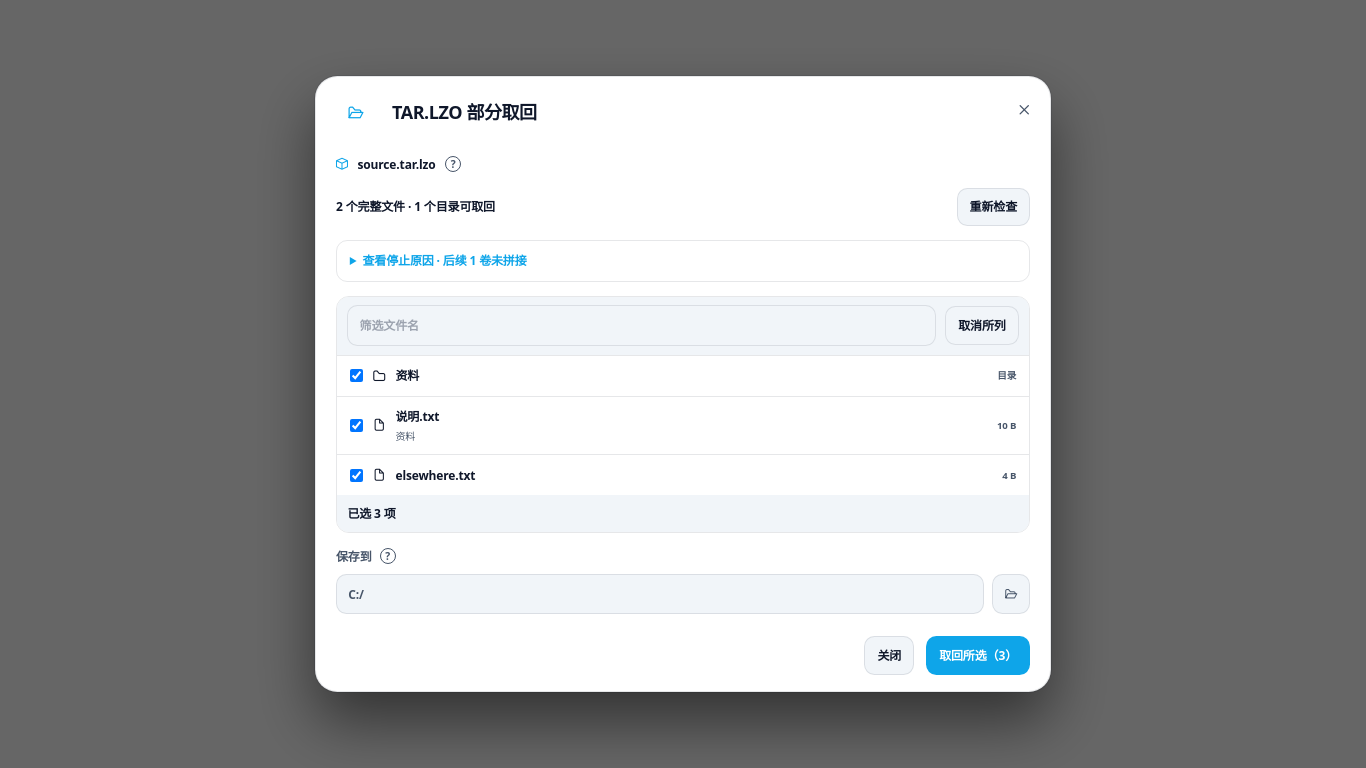
Test: tarlzo175 selecting a folder includes only confirmed descendants
The width and height of the screenshot is (1366, 768).
Click the checkbox labelled "资料 目录". click: (356, 376)
box: [350,369,363,382]
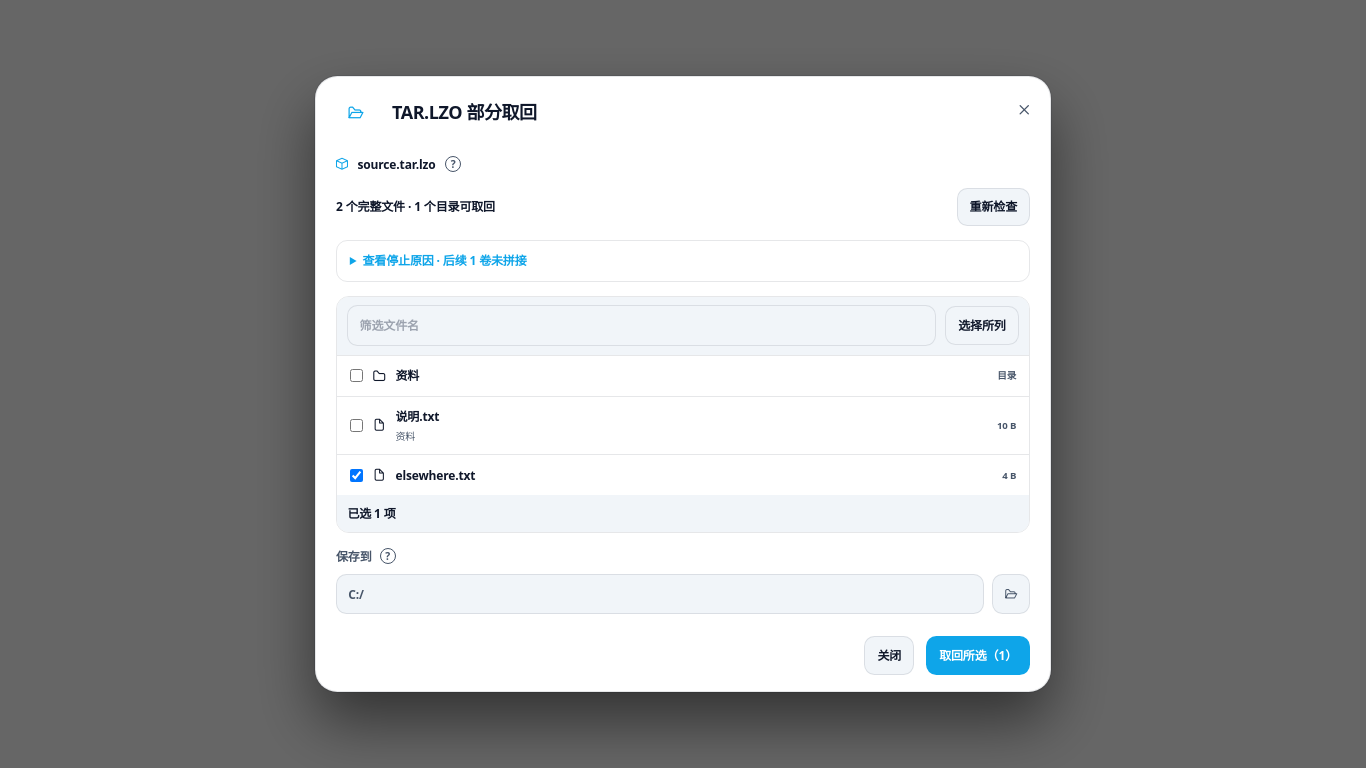
Check: the checkbox labelled "elsewhere.txt 4 B" is checked, box [350,469,363,482]
Check: the checkbox labelled "说明.txt 资料 10 B" is not checked, box [350,419,363,432]
Click the checkbox labelled "资料 目录". click: (356, 376)
box: [350,369,363,382]
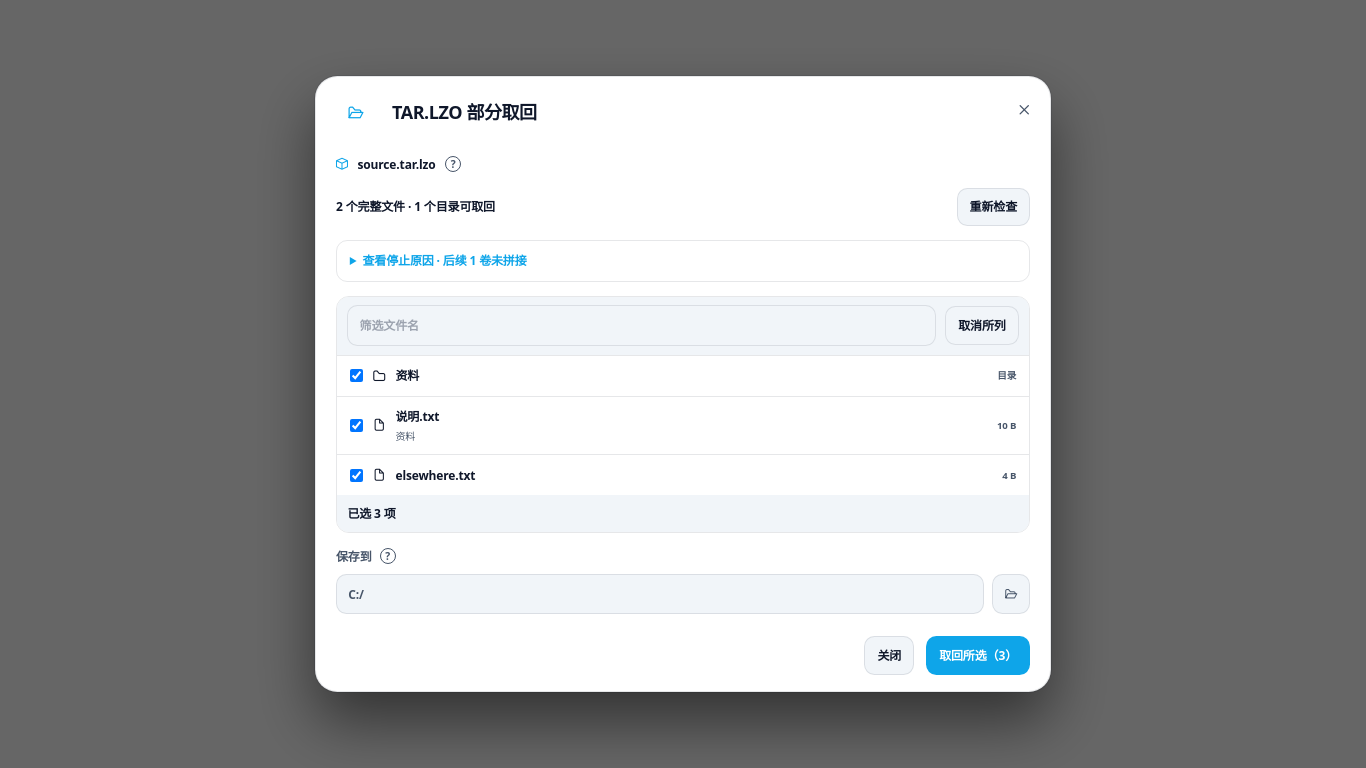
Check: the checkbox labelled "说明.txt 资料 10 B" is checked, box [350,419,363,432]
